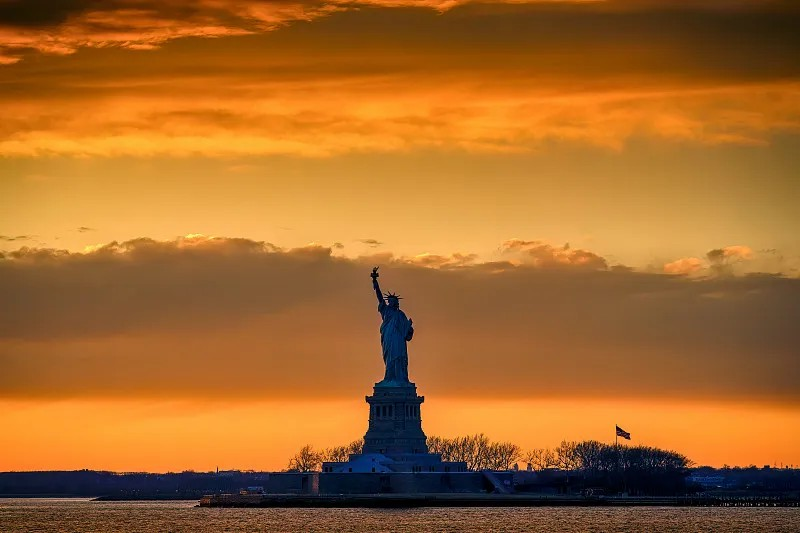SL: (359, 264, 427, 452)
